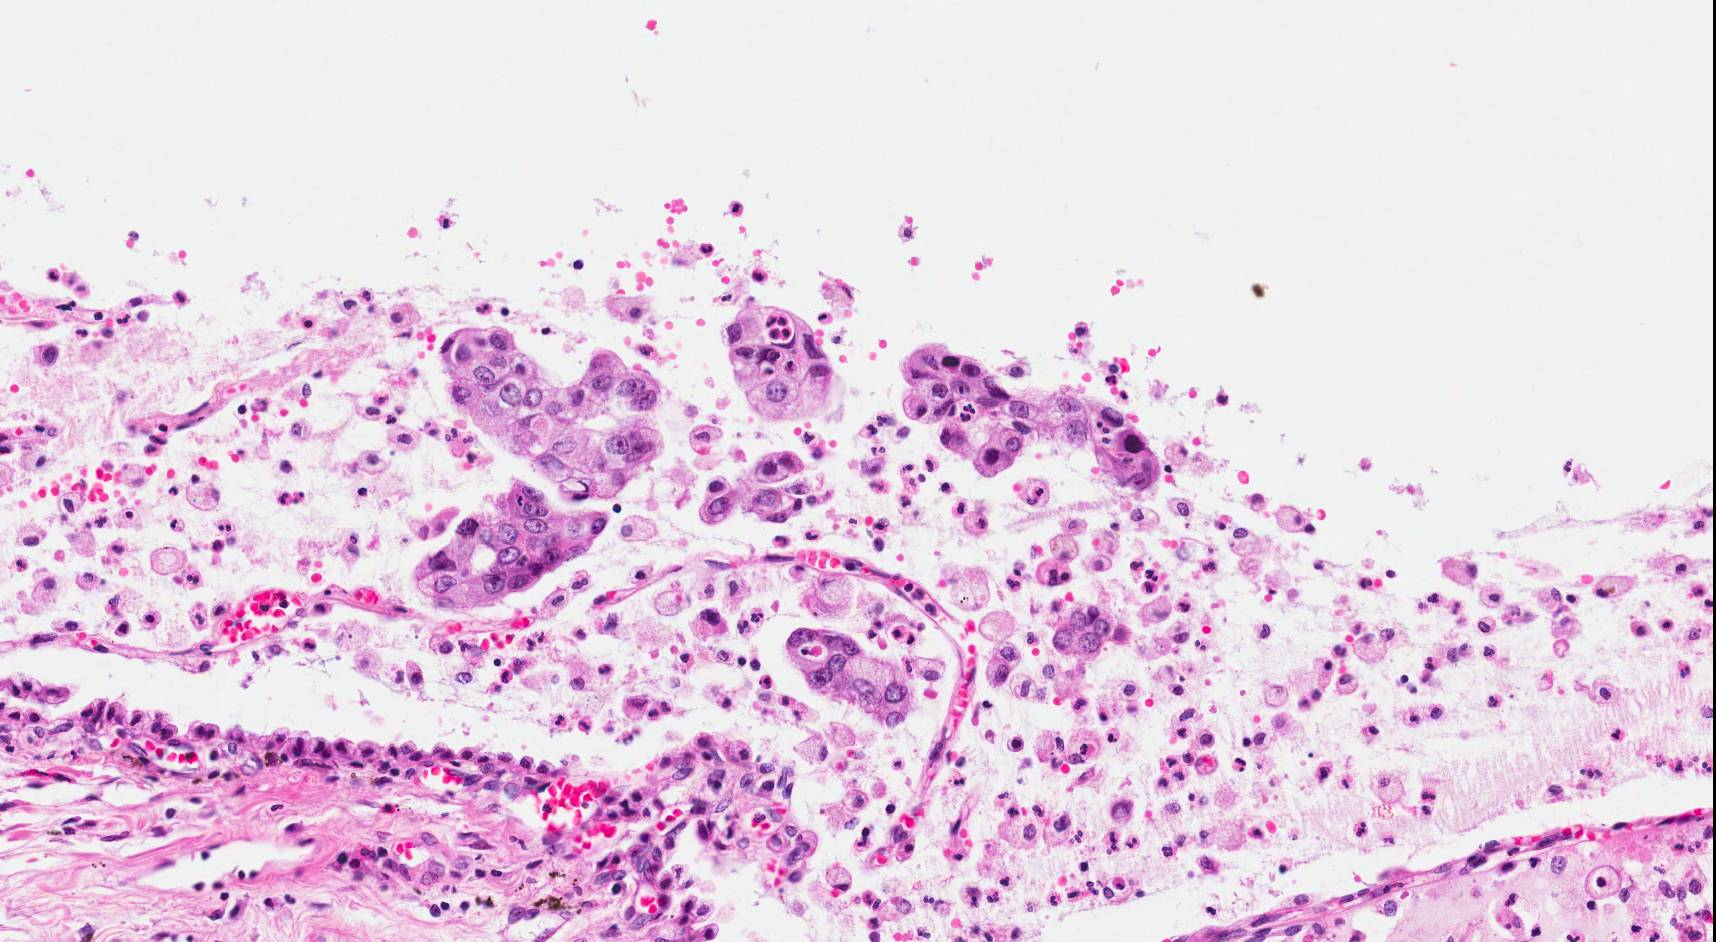stas: (898, 337, 1168, 495), (440, 323, 665, 502), (412, 479, 609, 612), (721, 302, 849, 422), (783, 626, 912, 728), (690, 444, 835, 527), (1054, 601, 1121, 661), (985, 637, 1024, 685)
